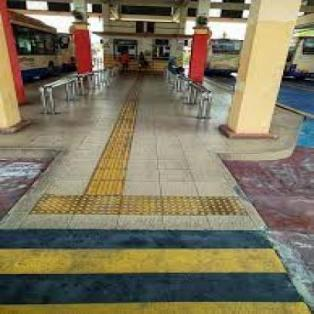Podoctatil: (26, 57, 259, 218)
